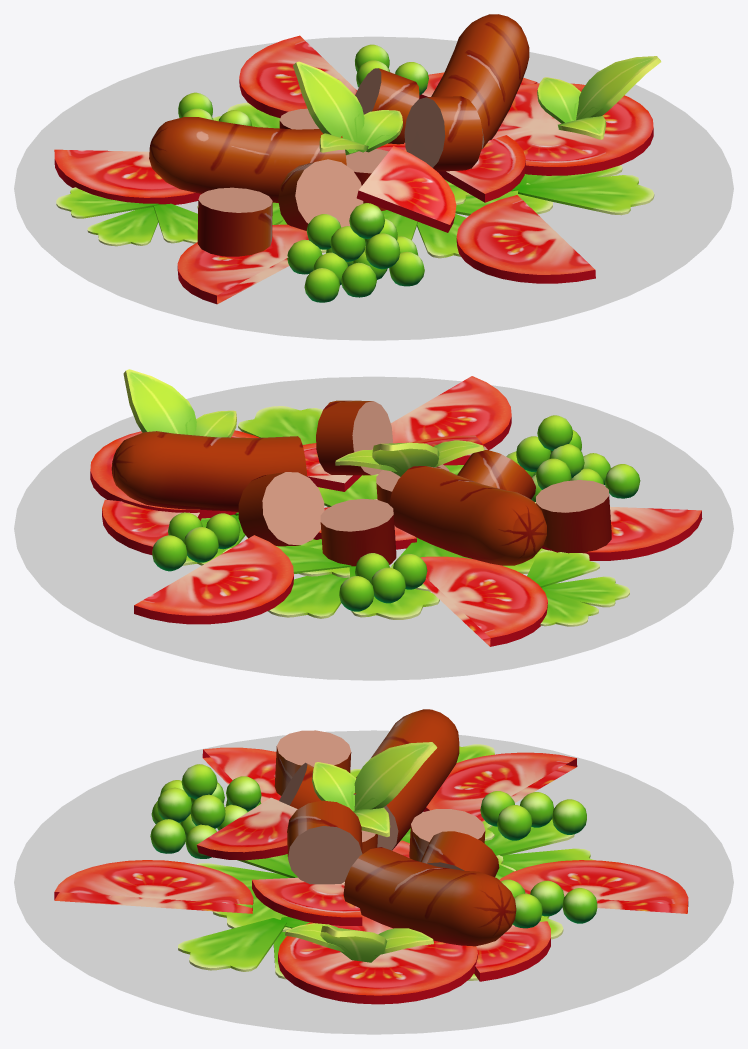
File: Lab_4_sausage_salad .fbx
3 renders of one model, top to bottom at view 1: azimuth 30°, elevation 25°; view 2: azimuth 150°, elevation 25°; view 3: azimuth 270°, elevation 25°, orthographic.
Parts seen in each view (by area): view 1: Circle_031, sausgae_008, Circle_036, Circle_037, sausgae_009, Circle_055, Circle_047, Circle_040, sausgae_010, Circle_056, Circle_033, Circle_051 (+17 smaller); view 2: Circle_031, sausgae_009, sausgae_008, Circle_046, Circle_047, Circle_037, sausgae_013, Circle_042, Circle_057, sausgae_015, sausgae_010, sausgae_012 (+20 smaller); view 3: Circle_031, sausgae_009, Circle_036, Circle_037, Circle_046, Circle_055, Circle_047, sausgae_008, sausgae_010, Circle_045, Circle_040, Circle_038 (+18 smaller).
Part boxes in pixels (bbox=[...]): Circle_031: bbox=[14, 36, 733, 340]; sausgae_008: bbox=[149, 117, 346, 202]; Circle_036: bbox=[492, 83, 653, 175]; Circle_037: bbox=[456, 195, 595, 283]; sausgae_009: bbox=[431, 14, 529, 148]; Circle_055: bbox=[293, 61, 402, 155]; Circle_047: bbox=[54, 149, 201, 204]; Circle_040: bbox=[356, 146, 456, 232]; sausgae_010: bbox=[404, 96, 482, 171]; Circle_056: bbox=[177, 224, 308, 304]; Circle_033: bbox=[537, 56, 661, 139]; Circle_051: bbox=[287, 236, 424, 302]; Circle_031: bbox=[14, 376, 733, 680]; sausgae_009: bbox=[111, 431, 306, 511]; sausgae_008: bbox=[389, 466, 546, 565]; Circle_046: bbox=[134, 535, 293, 624]; Circle_047: bbox=[420, 556, 547, 646]; Circle_037: bbox=[391, 376, 511, 450]; sausgae_013: bbox=[238, 472, 324, 546]; Circle_042: bbox=[223, 538, 439, 619]; Circle_057: bbox=[527, 550, 629, 626]; sausgae_015: bbox=[536, 480, 611, 553]; sausgae_010: bbox=[316, 400, 392, 475]; sausgae_012: bbox=[320, 499, 396, 566]; Circle_031: bbox=[14, 730, 733, 1034]; sausgae_009: bbox=[343, 847, 516, 946]; Circle_036: bbox=[278, 915, 477, 1004]; Circle_037: bbox=[54, 860, 253, 913]; Circle_046: bbox=[499, 860, 688, 913]; Circle_055: bbox=[312, 742, 437, 836]; Circle_047: bbox=[423, 752, 577, 821]; sausgae_008: bbox=[353, 709, 459, 850]; sausgae_010: bbox=[287, 800, 362, 884]; Circle_045: bbox=[178, 917, 309, 979]; Circle_040: bbox=[197, 797, 297, 860]; Circle_038: bbox=[252, 877, 362, 925].
Bounding box in the file's own units: 5.06 × 0.9449 × 5.06.
1 material, 1 textured.
